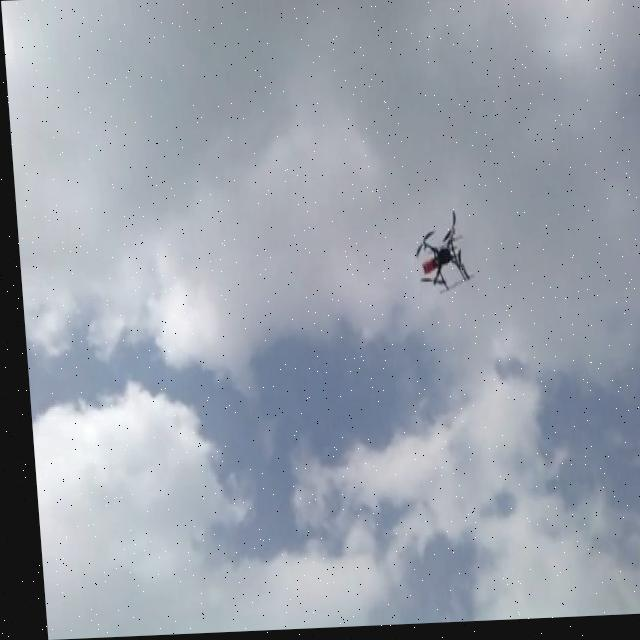drone: (405, 207, 468, 303)
